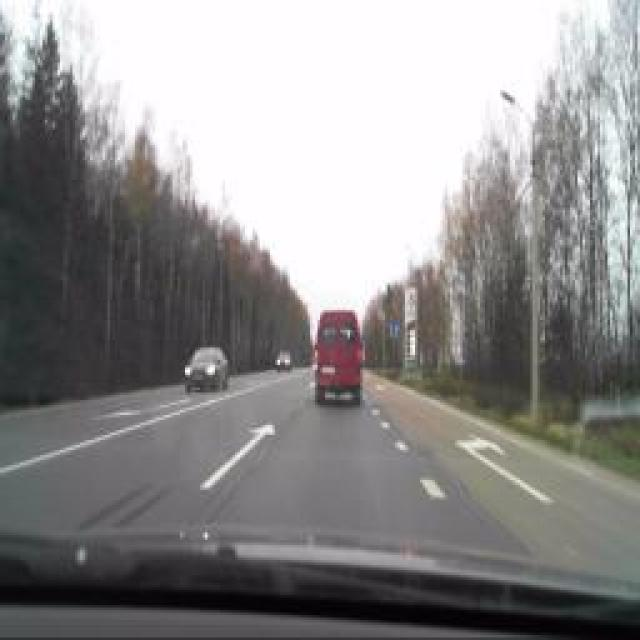sign: (389, 324, 401, 338)
